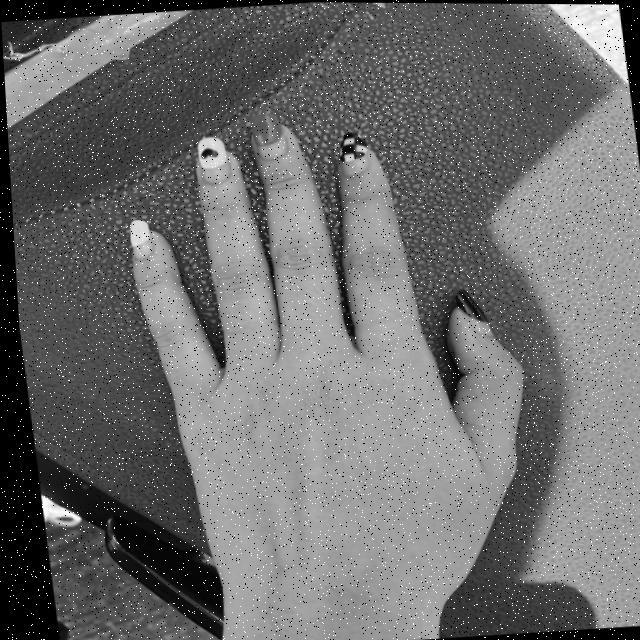no-gloves: (105, 90, 545, 606)
